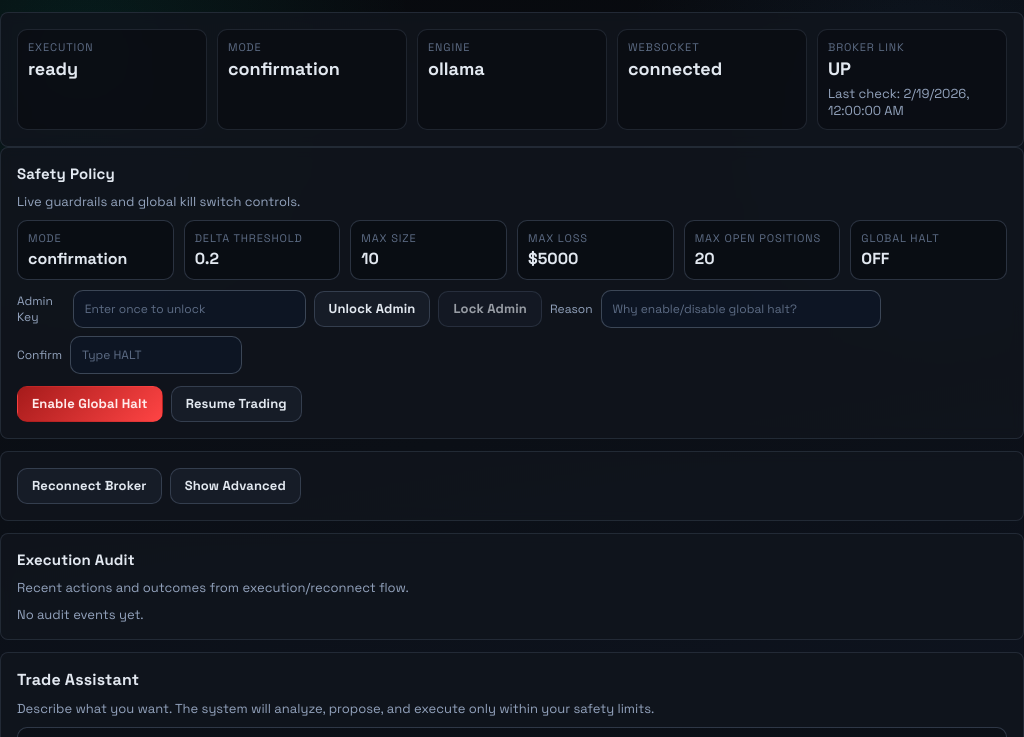
Test case: AgentConsolePage › restores persisted timeline runs on load
This screenshot has width=1024, height=737.
What coordinates should you click on to do the following:
click the button with test id "toggle-advanced-button"
I would click on:
 (235, 486)
Its box is [170,468,301,504].
(page scrolled)
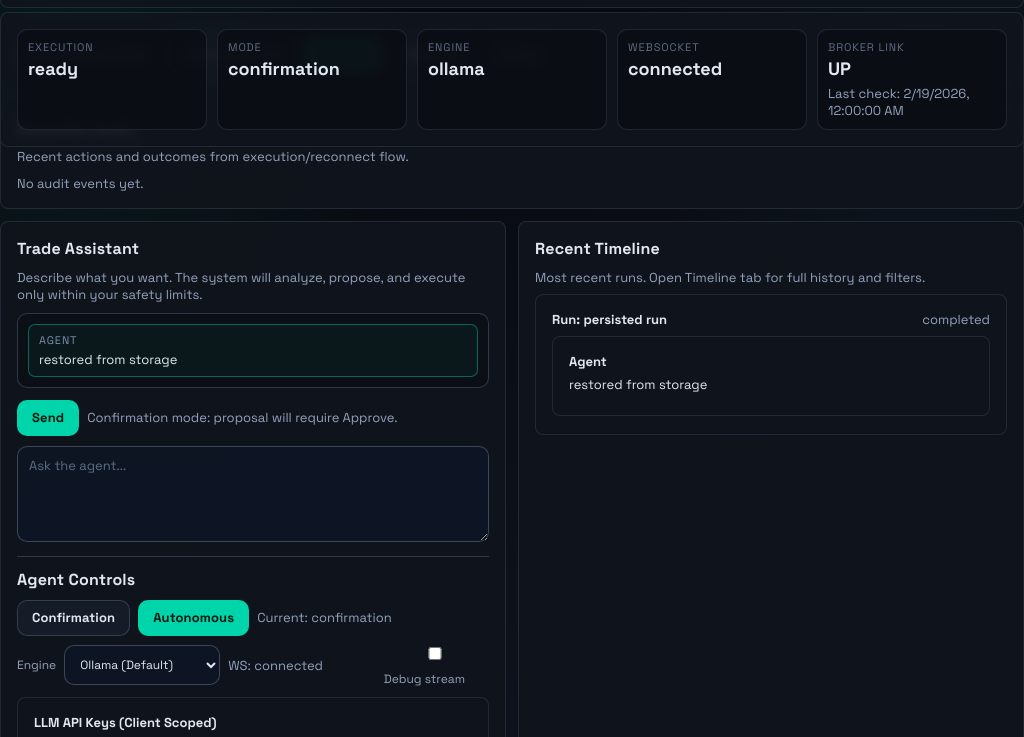
Check: the text "Run: persisted run" is shown, box [552,310,667,328]
Check: the text "restored from storage" below "completed" is shown, box [569,376,707,392]
